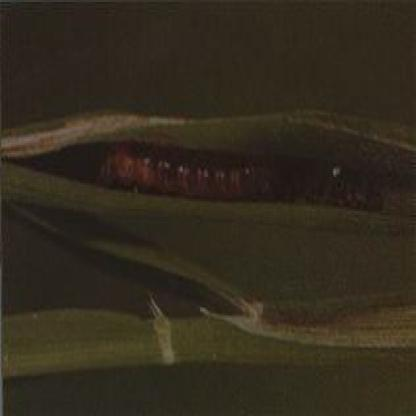leaf-folder: (86, 118, 306, 246)
